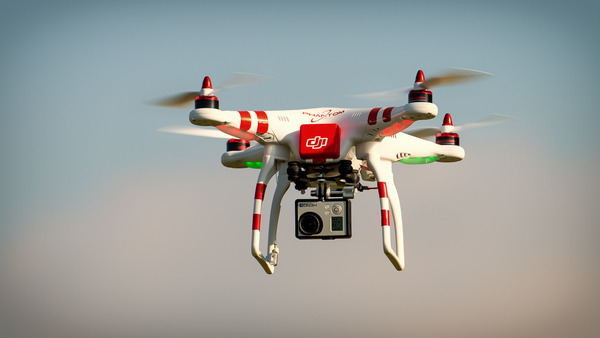drone: (143, 65, 503, 277)
